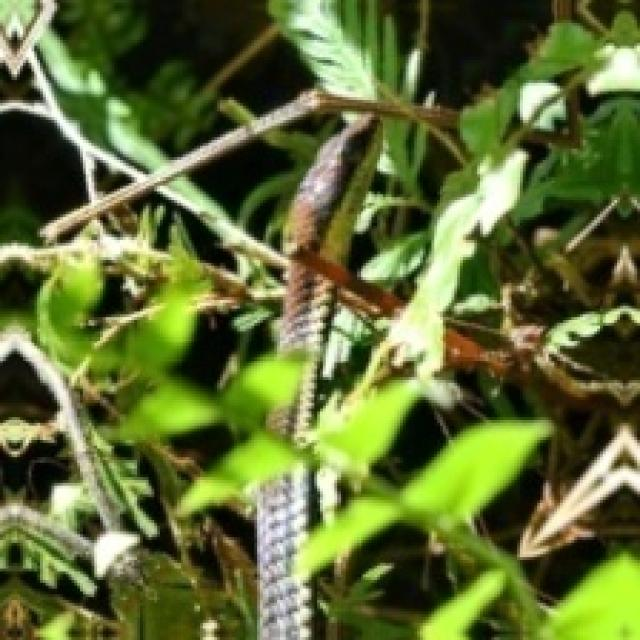philippine bronzeback treesnake: (283, 114, 377, 257), (269, 260, 331, 443), (257, 466, 309, 637)
